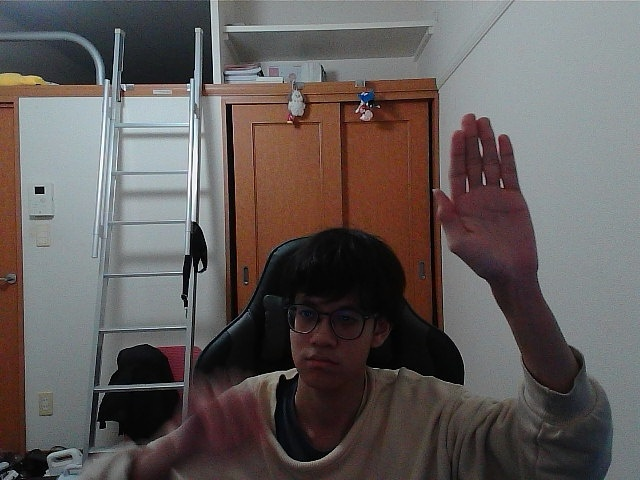open_palm: (441, 121, 515, 268)
